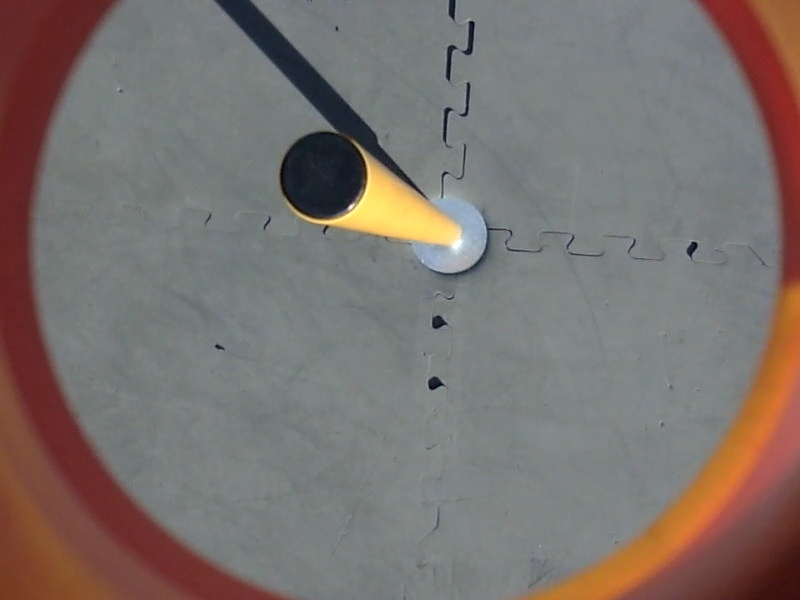tip: (276, 127, 387, 228)
